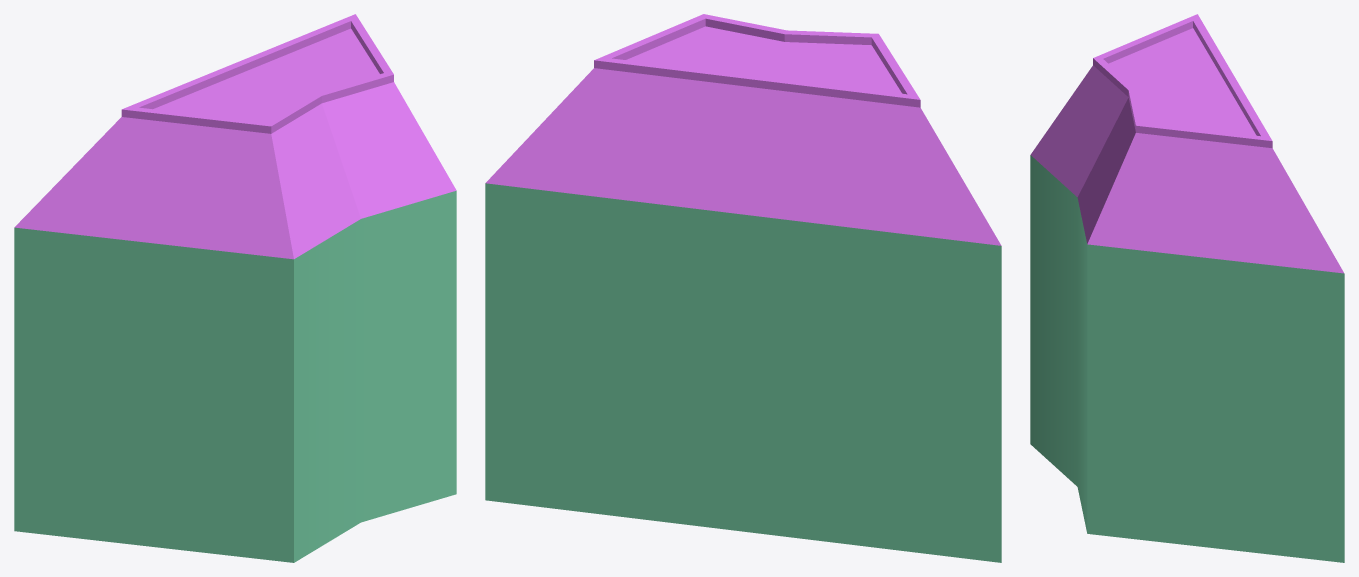
File: Batiment3.fbx
3 renders of one model, left to right at view 1: azimuth 30°, elevation 25°; view 2: azimuth 150°, elevation 25°; view 3: azimuth 270°, elevation 25°, orthographic. The views are drawn at different scales.
Parts seen in each view (by area): view 1: Batiment3; view 2: Batiment3; view 3: Batiment3.
Boxes of the visible parts, x1,y1,x2,y2 form: Batiment3: [14, 14, 456, 562]; Batiment3: [485, 14, 1001, 562]; Batiment3: [1030, 14, 1344, 562].
Size of the model in its own units: 36.44 by 33.03 by 24.04.
